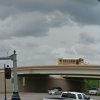Bridge: (20, 58, 97, 85)
